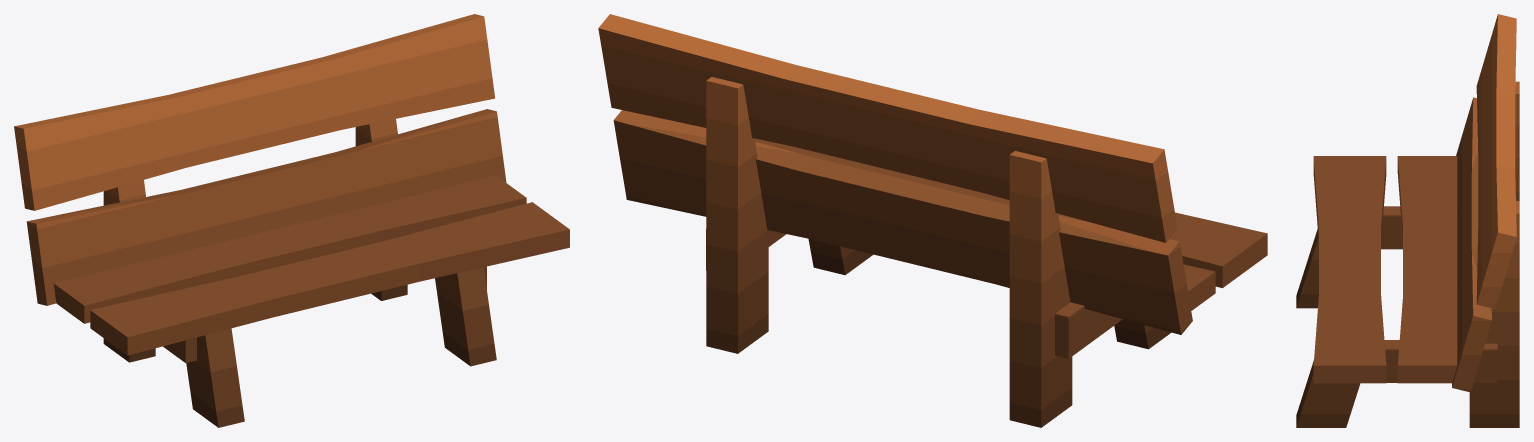
Rendered from bench.fbx.
3 renders of one model, left to right at view 1: azimuth 30°, elevation 25°; view 2: azimuth 150°, elevation 25°; view 3: azimuth 270°, elevation 25°, orthographic. The views are drawn at different scales.
Parts seen in each view (by area): view 1: Bench; view 2: Bench; view 3: Bench.
Part boxes in pixels (box(x1,y1,x2,y2)): Bench: box(14, 14, 569, 427); Bench: box(598, 14, 1267, 427); Bench: box(1296, 14, 1519, 427).
Size of the model in its own units: 200 by 102 by 86.43.
